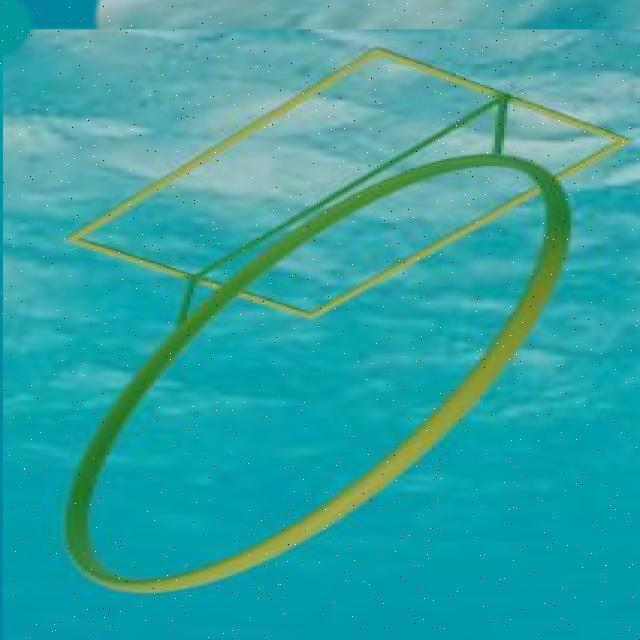Circle: (58, 146, 573, 594)
